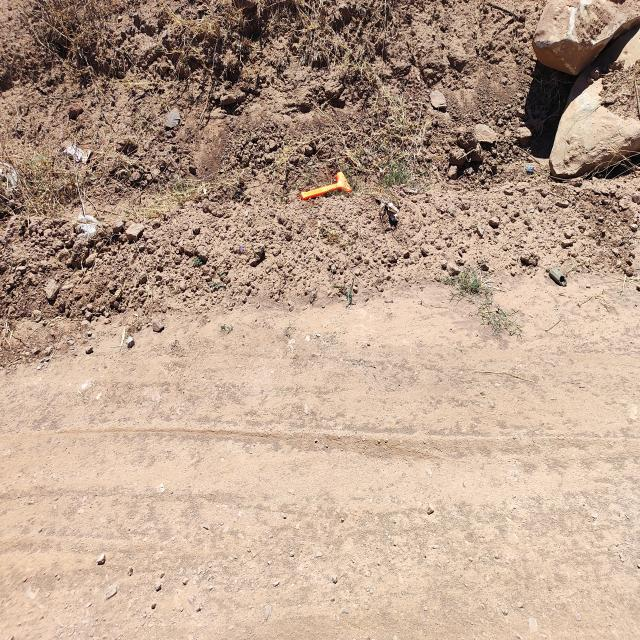Orange_hammer: (299, 171, 352, 201)
